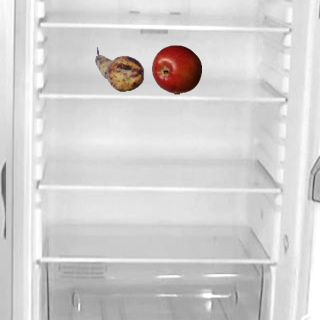Apple Braeburn: (151, 44, 201, 94)
Pear Abate: (94, 44, 144, 94)
